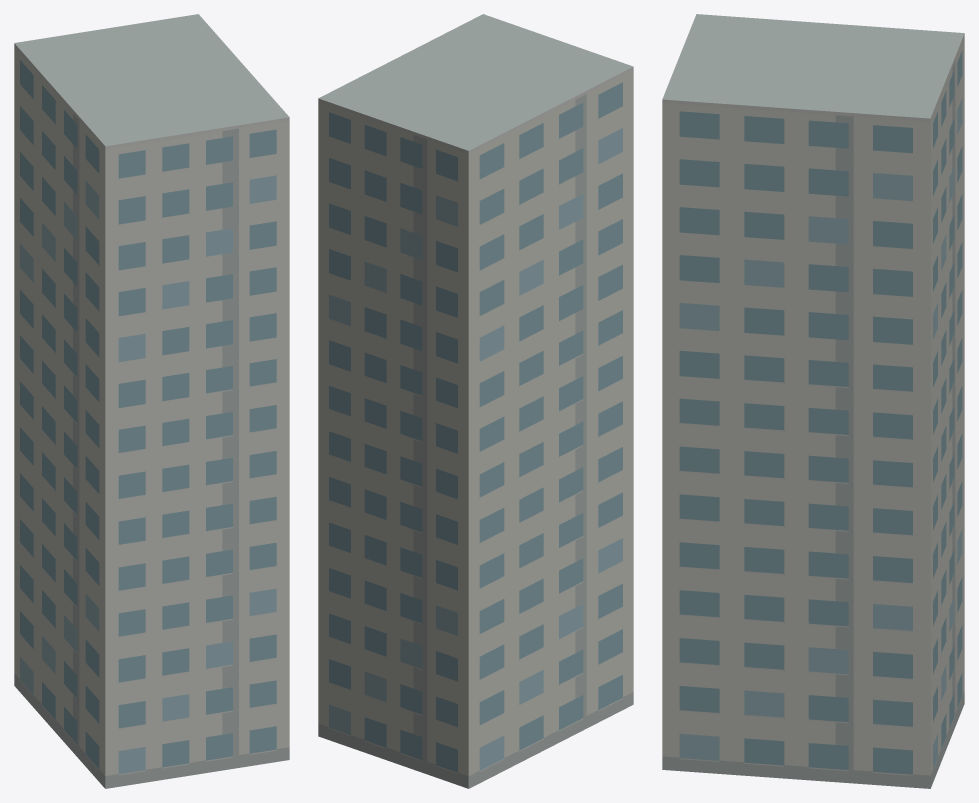
Rendered from residential-41c8f6f3-acf1-40ac-be47-e028875b4763.glb.
3 views of the same model, side by side, from view 1: azimuth 30°, elevation 25°; view 2: azimuth 150°, elevation 25°; view 3: azimuth 270°, elevation 25° (orthographic). The views are drawn at different scales.
Visible parts, largest first — view 1: residential-41c8f6f3-acf1-40ac-be47-e028875b4763.tmp; view 2: residential-41c8f6f3-acf1-40ac-be47-e028875b4763.tmp; view 3: residential-41c8f6f3-acf1-40ac-be47-e028875b4763.tmp.
Part boxes in pixels (x1,y1,x2,y2): residential-41c8f6f3-acf1-40ac-be47-e028875b4763.tmp: (14,14,289,788); residential-41c8f6f3-acf1-40ac-be47-e028875b4763.tmp: (318,14,633,788); residential-41c8f6f3-acf1-40ac-be47-e028875b4763.tmp: (662,14,964,788).
Size of the model in its own units: 16.07 by 48 by 19.64.
